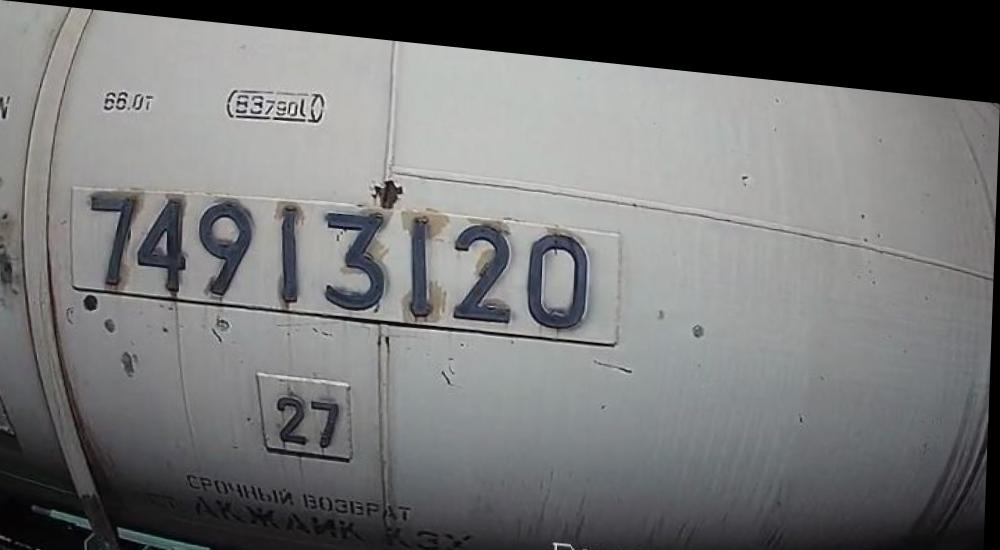Wagon-number: (87, 176, 599, 331)
